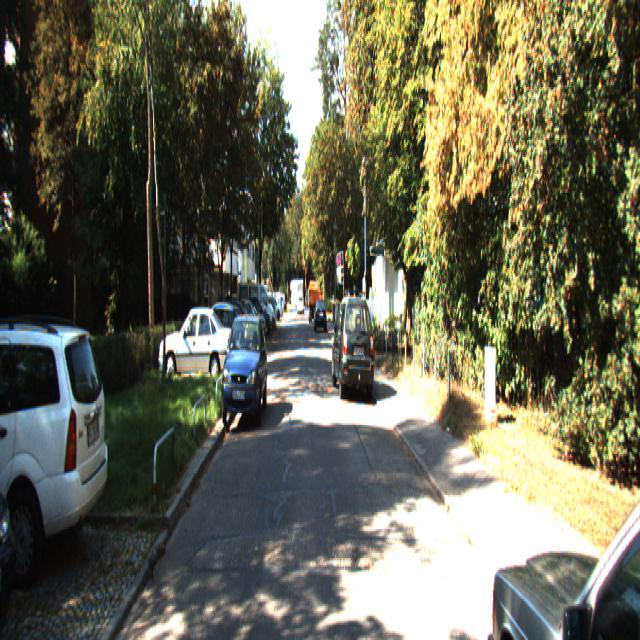Car: (0, 321, 114, 587), (158, 305, 233, 388), (222, 314, 268, 428), (333, 290, 374, 401), (238, 282, 276, 334)
